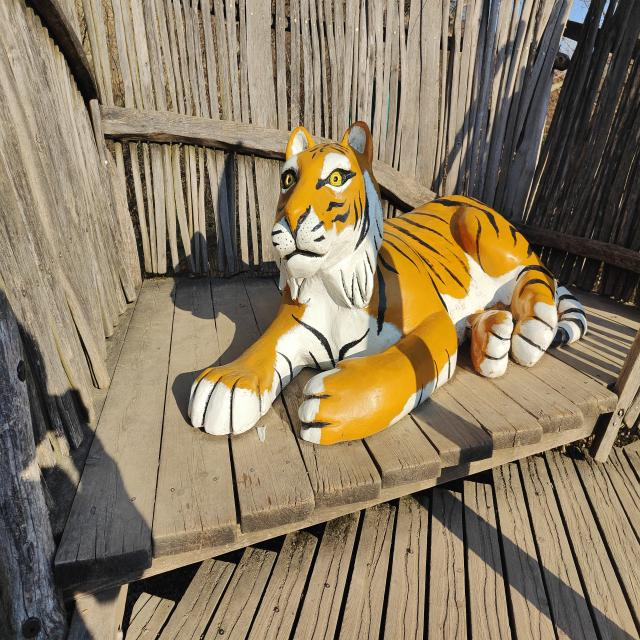tiger: (187, 121, 588, 446)
